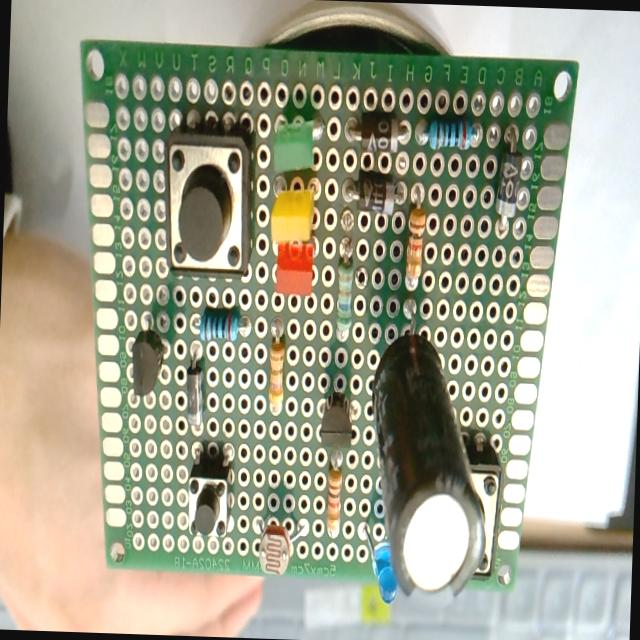Electrolytic capacitor: (360, 295, 480, 607)
cds: (245, 502, 310, 580)
diode: (494, 106, 528, 245), (338, 99, 416, 158), (332, 162, 407, 217), (180, 340, 220, 440)
led: (271, 84, 330, 175), (266, 172, 326, 246), (264, 247, 317, 306)
resistor: (398, 185, 434, 301), (324, 232, 358, 348), (318, 450, 352, 558), (261, 312, 293, 424), (413, 107, 486, 154), (184, 300, 256, 344)
switch: (154, 99, 262, 291), (180, 449, 242, 547)
transistor: (123, 304, 178, 408), (312, 374, 364, 453)
